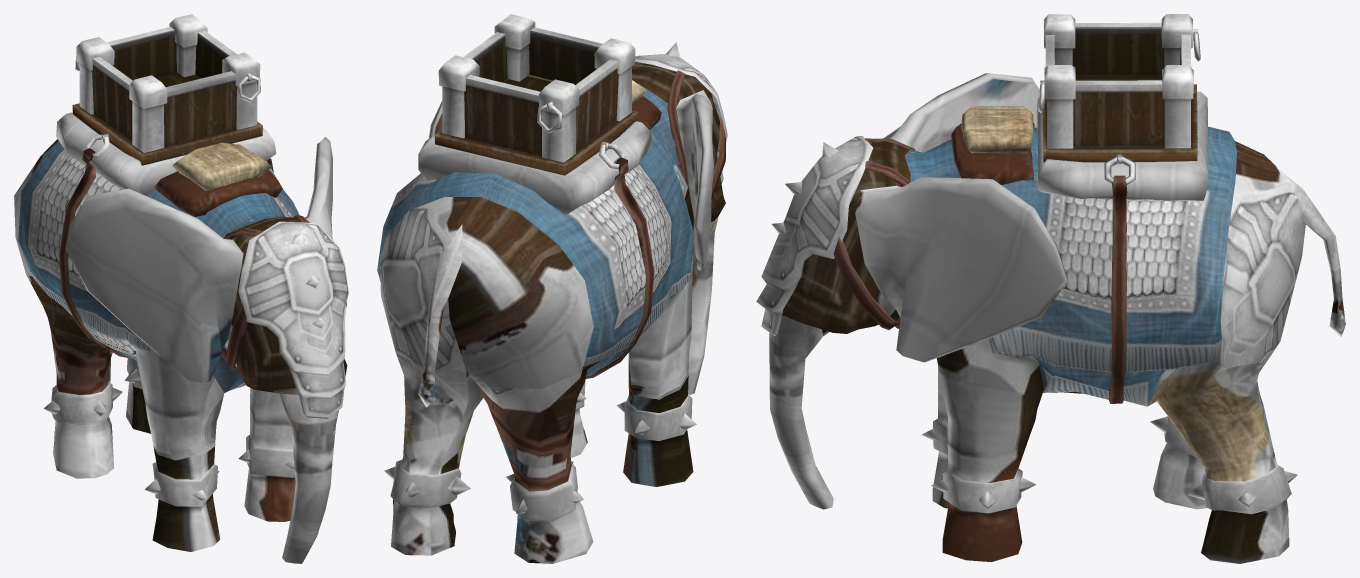
The model's file is body-heavywarelephants.glb.
The picture shows the model from 3 angles, left to right: view 1: azimuth 30°, elevation 25°; view 2: azimuth 150°, elevation 25°; view 3: azimuth 270°, elevation 25°; orthographic projection. The views are drawn at different scales.
Bounding box in the file's own units: 2.63 × 4.15 × 4.64.
Materials: 1 (1 with a texture image).
